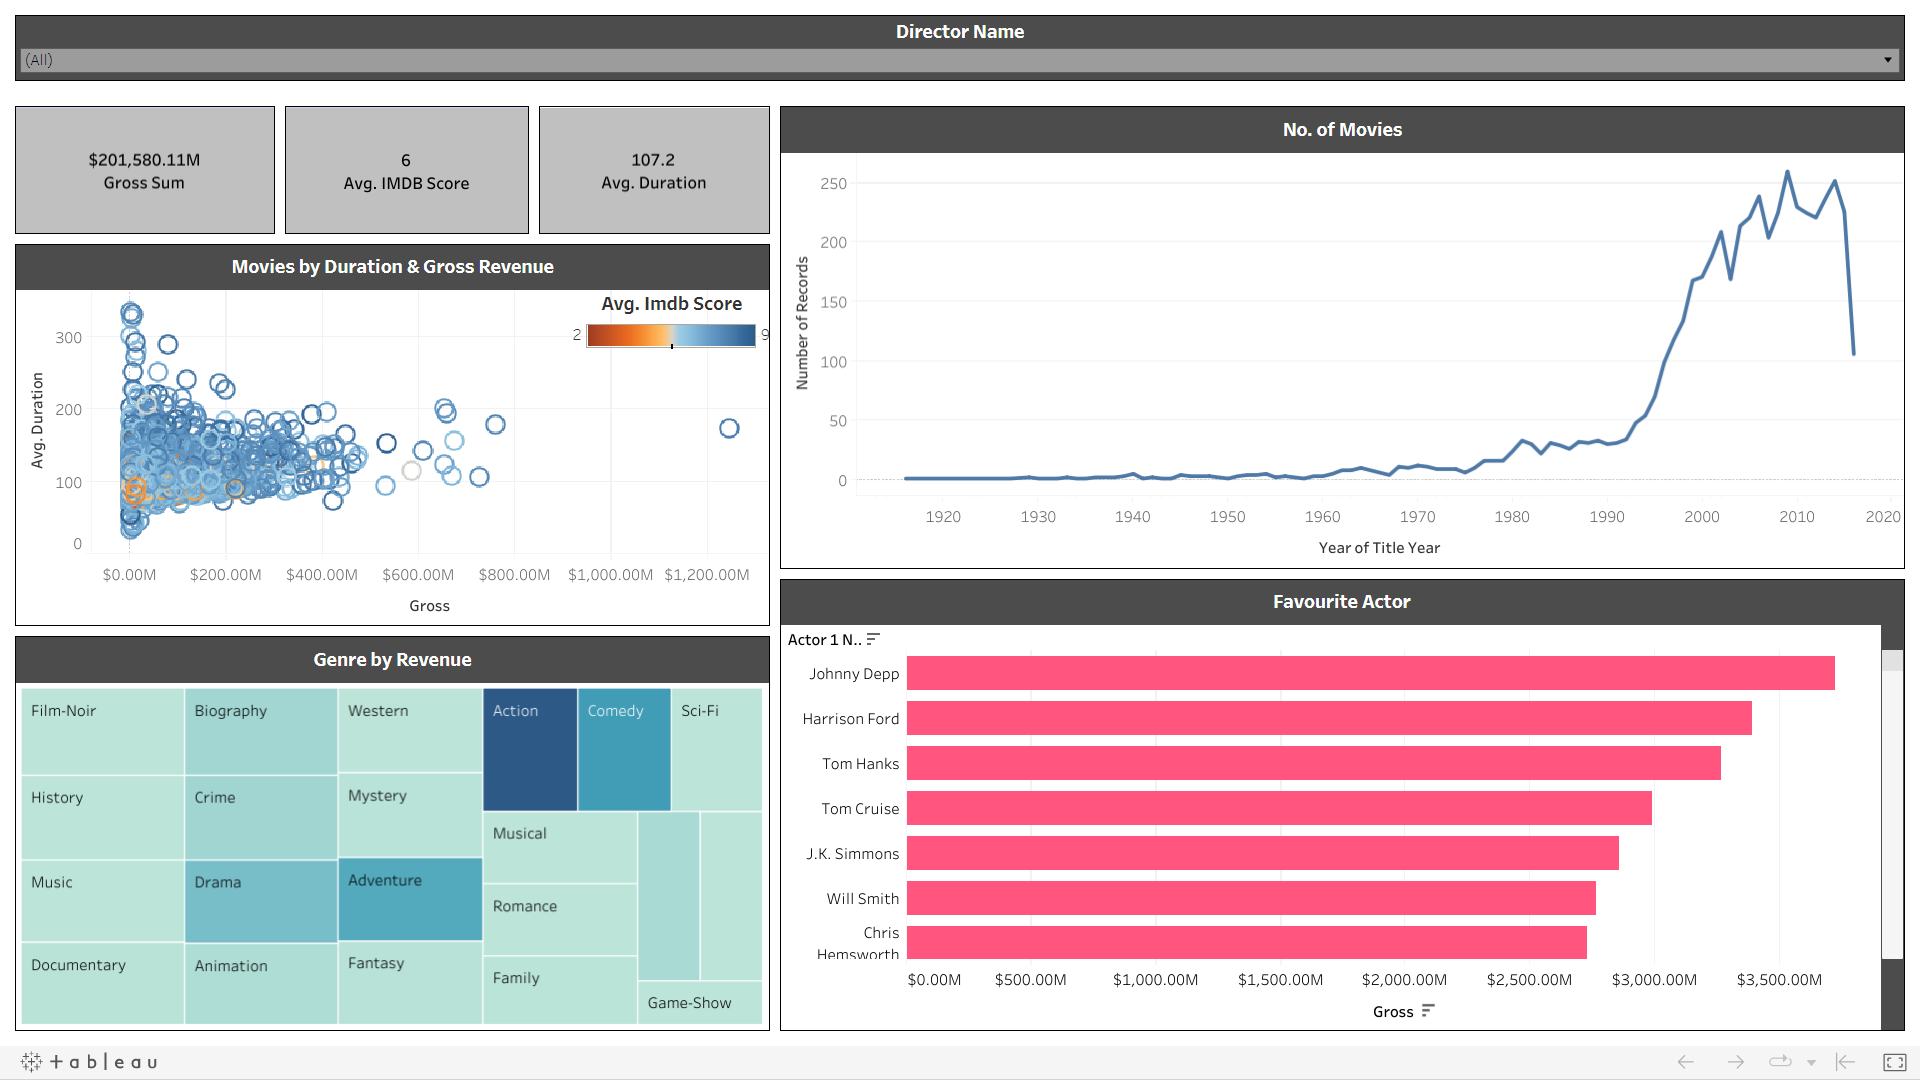

This screenshot's page, from the dashboard's own definition file:
{"tool":"tableau","page":{"name":"Dashboard 1","canvas":[1000,1000],"units":"permille","ordinal":0},"visuals":[{"type":"filter","title":"Sheet 5","param":"[federated.1pj3vsb02it2l11borne018uyqci].[none:director_name:nk]","box":[4.9,9.3,990.2,77.8]},{"type":"worksheet","title":"Sheet 6","mark":"Automatic","box":[4.9,96.5,152.5,131.2]},{"type":"worksheet","title":"Sheet 7","mark":"Automatic","box":[157.4,96.5,143.3,131.2]},{"type":"worksheet","title":"Sheet 8","mark":"Automatic","box":[300.7,96.5,135.9,131.2]},{"type":"worksheet","title":"Sheet 3","mark":"Automatic","rows":["title_year"],"cols":["title_year"],"box":[436.7,96.5,558.4,464.5]},{"type":"worksheet","title":"Sheet 2","mark":"Automatic","rows":["duration"],"cols":["gross"],"box":[4.9,227.6,431.7,376.3]},{"type":"legend","title":"Sheet 2","param":"[federated.1pj3vsb02it2l11borne018uyqci].[avg:imdb_score:qk]","box":[295.8,277.6,108.2,91.8]},{"type":"worksheet","title":"Sheet 5","mark":"Automatic","rows":["actor_1_name"],"cols":["gross"],"box":[436.7,561,558.4,429.7]},{"type":"worksheet","title":"Sheet 4","mark":"Automatic","box":[4.9,604,431.7,386.8]}]}

Visuals, with their boxes on the dashboard's canvas, which has no fixed pixel size, in thousandths of its width and height (x1, y1, x2, y2). These are canvas units, not pixel positions in the 1920x1080 screenshot, which may show the page scaled, cropped or inside an application window:
"Sheet 5" filter: locate(5, 9, 995, 87)
"Sheet 6" worksheet: locate(5, 96, 157, 228)
"Sheet 7" worksheet: locate(157, 96, 301, 228)
"Sheet 8" worksheet: locate(301, 96, 437, 228)
"Sheet 3" worksheet: locate(437, 96, 995, 561)
"Sheet 2" worksheet: locate(5, 228, 437, 604)
"Sheet 2" legend: locate(296, 278, 404, 369)
"Sheet 5" worksheet: locate(437, 561, 995, 991)
"Sheet 4" worksheet: locate(5, 604, 437, 991)
